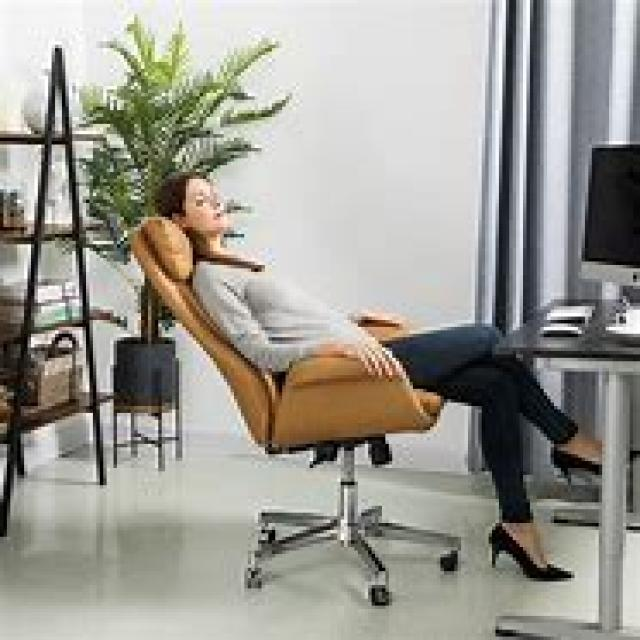chair: (124, 213, 461, 606)
